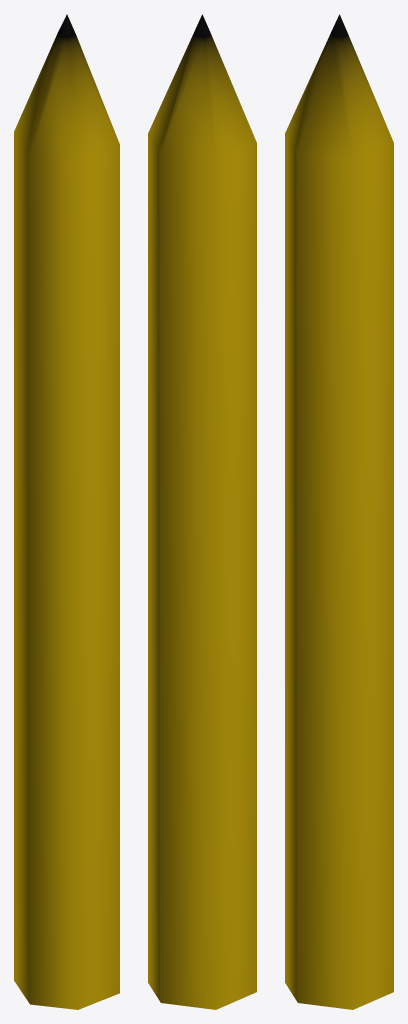
File: pencil.fbx
3 views of the same model, side by side, from view 1: azimuth 30°, elevation 25°; view 2: azimuth 150°, elevation 25°; view 3: azimuth 330°, elevation 25° (orthographic).
Parts seen in each view (by area): view 1: pencil8; view 2: pencil8; view 3: pencil8.
Boxes of the visible parts, <box> form: pencil8: <box>14,14,119,1009</box>; pencil8: <box>148,14,256,1009</box>; pencil8: <box>285,14,393,1009</box>.
Bounding box in the file's own units: 0.1887 × 1.92 × 0.1887.
